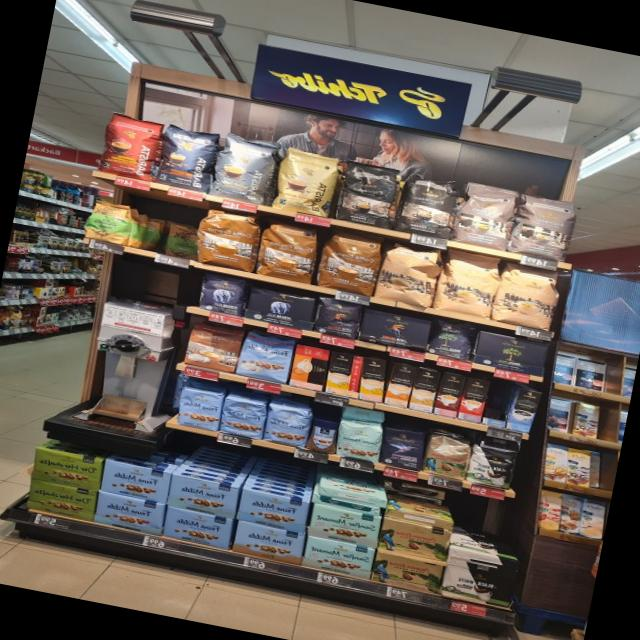AB Bohne: (194, 270, 250, 318)
AB Gemahlen: (240, 285, 320, 332)
Athiopien Bohne: (79, 197, 140, 248)
BM Bohne: (427, 316, 482, 363)
BM Gemahlen: (470, 330, 552, 378)
BW Bohne: (464, 440, 520, 491)
BW Gemahlen: (439, 566, 516, 608)
Barista CB: (269, 145, 347, 221)
Barista CC: (206, 130, 287, 209)
Barista Espresso: (152, 121, 226, 195)
Barista Kolumbien: (96, 111, 168, 183)
C Fino Bohne: (378, 424, 428, 472)
CC Mild: (488, 260, 566, 334), (430, 247, 506, 321), (372, 238, 447, 310)
CC Vollmundig: (180, 318, 248, 376)
CC Vollmundig 36 Pads: (190, 204, 268, 276), (252, 218, 326, 287), (314, 228, 386, 297)
Colombia BB Bohne: (420, 430, 474, 480)
Colombia BB Gemahlen: (375, 516, 454, 563), (368, 550, 448, 596)
Empty Shelf: (480, 382, 516, 428)
Espresso Aromatisch: (448, 178, 523, 255)
Espresso Kraftig: (391, 168, 463, 244)
Espresso M Art: (505, 190, 583, 266)
Espresso S Art: (330, 156, 410, 233)
FM 36 Pads: (232, 328, 300, 386)
FM Bohne: (262, 400, 314, 450), (218, 392, 270, 441), (176, 386, 226, 432)
FM Gemahlen: (164, 472, 243, 520), (97, 458, 174, 506), (234, 488, 314, 534), (229, 520, 308, 566), (91, 489, 168, 536), (160, 506, 236, 550)
FM Instant: (304, 416, 339, 456)
Herzhatfe Mundig: (24, 477, 100, 523), (30, 446, 104, 492)
LG Bohne: (311, 295, 364, 341)
LG Gemahlen: (356, 307, 434, 353)
SM Bohne: (334, 416, 386, 464)
SM Gemahlen: (306, 503, 382, 549), (301, 536, 378, 581)
Simo CCMild: (322, 349, 366, 398)
Simo CCMild bigpack: (356, 357, 389, 402)
Simo CCVollmundig bigpack: (382, 362, 418, 409)
Simo Decaff: (406, 366, 442, 414)
Simo Es Elegant: (456, 377, 491, 425)
Simo Es Kraft: (431, 370, 466, 420)
Simo Kaffee Mild: (505, 388, 542, 434)
